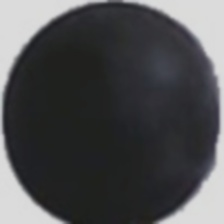grapes: (30, 23, 198, 224)
